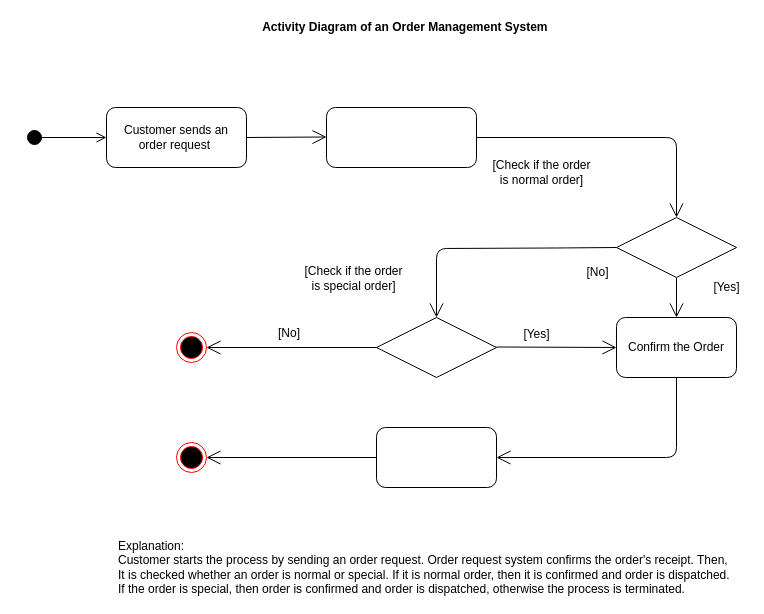
Some shapes in this 764 by 614 pixel diagram are drawn without their labels. Each missing label, with the centre of its shape:
"Dispatch the Order" belongs at pixel 436 457.
"Order Request System confirms the receipt of the order" belongs at pixel 401 137.
